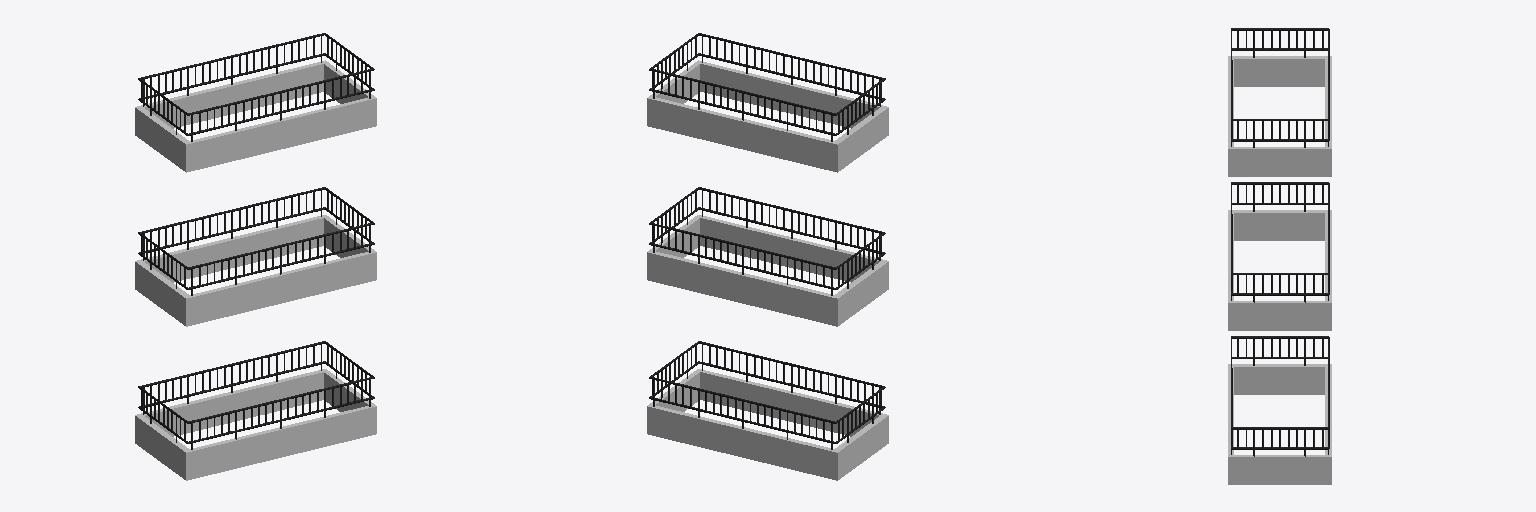
File: balcones_2.obj
The picture shows the model from 3 angles: view 1: azimuth 30°, elevation 25°; view 2: azimuth 150°, elevation 25°; view 3: azimuth 270°, elevation 25°; orthographic projection.
Visible parts, largest first — view 1: Borde_barrotes.001_Cube.008; view 2: Borde_barrotes.001_Cube.008; view 3: Borde_barrotes.001_Cube.008.
Boxes of the visible parts, x1=… form: Borde_barrotes.001_Cube.008: x1=135, y1=33, x2=376, y2=480; Borde_barrotes.001_Cube.008: x1=647, y1=33, x2=888, y2=480; Borde_barrotes.001_Cube.008: x1=1228, y1=28, x2=1331, y2=484.
Size of the model in its own units: 7.14 by 13.05 by 3.33.